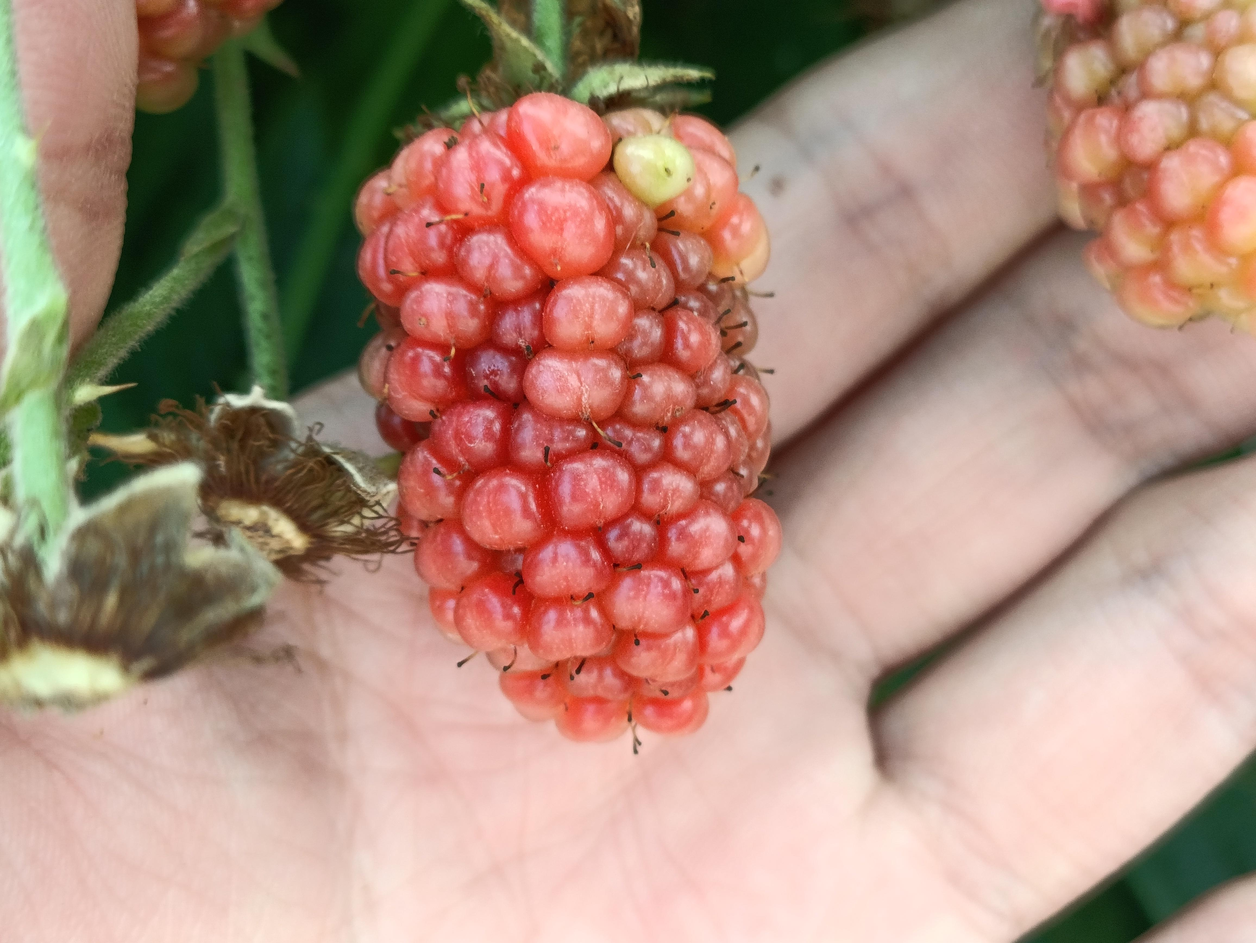naranja: (346, 91, 778, 754)
